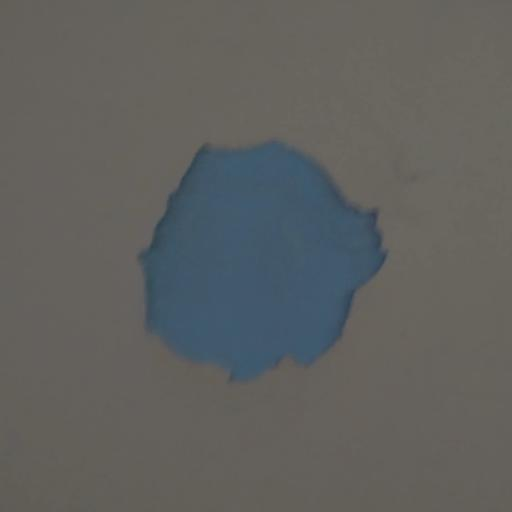peeling: (134, 123, 397, 385)
